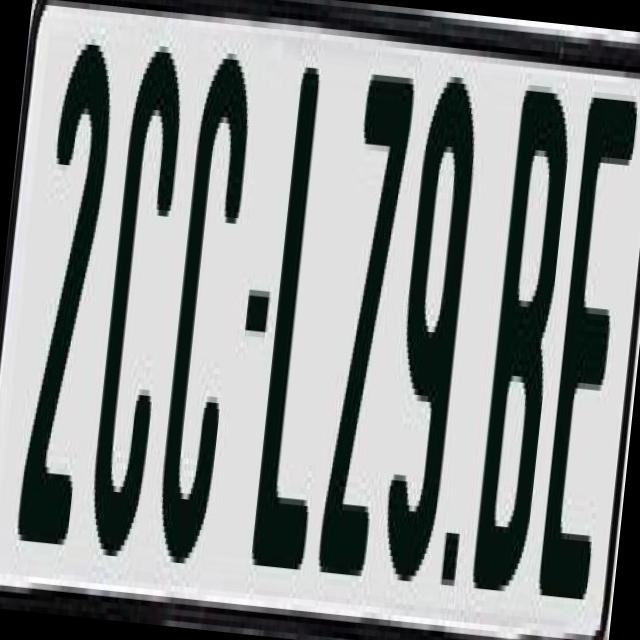2: (14, 24, 123, 528)
9: (374, 74, 482, 601)
B: (466, 84, 580, 605)
C: (152, 39, 266, 578), (84, 26, 198, 547)
E: (532, 85, 638, 623)
L: (246, 61, 360, 582)
Z: (318, 56, 423, 560)
